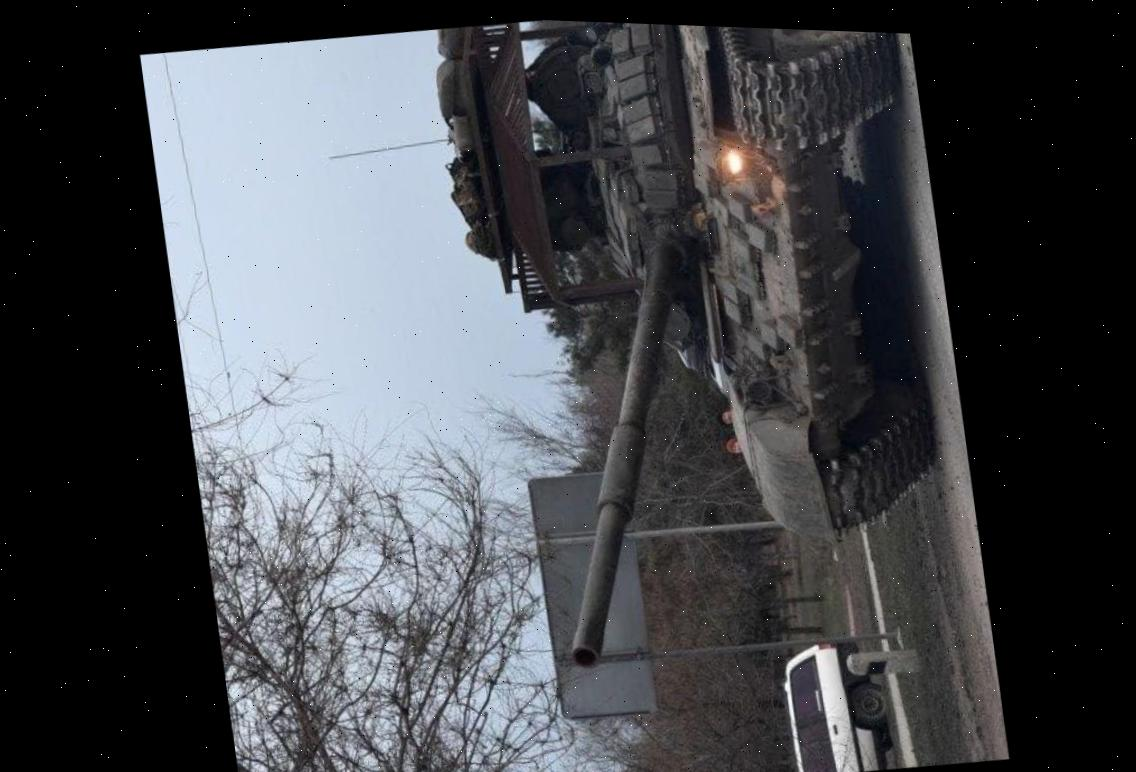car: (777, 634, 899, 772)
tank: (472, 17, 986, 684)
